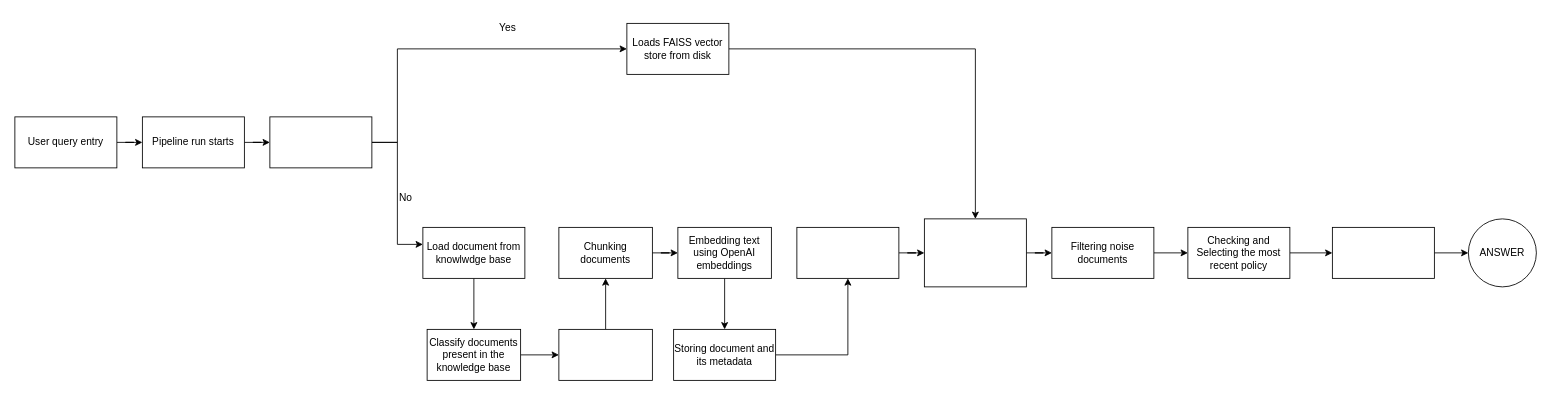
Image size: 1551x395. Some labels were removed from this diagram. Here are the shapes that lost their labels. From the top down, the centre of each, then its label:
the point at 320,142: FAISS index present in directory?
the point at 847,252: Build vector store(FAISS)
the point at 975,252: Retrieving relevant chunks from vector store
the point at 1383,252: Generating answer
the point at 605,354: Splitting text from documents
